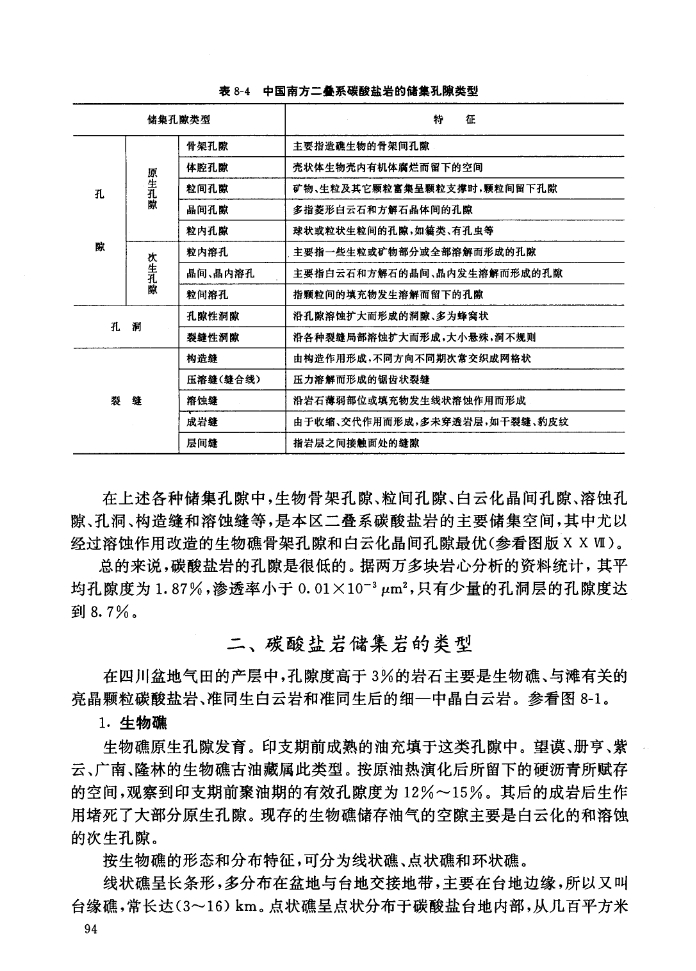table: (72, 101, 625, 454)
